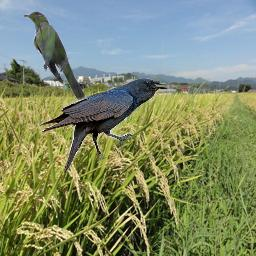Crow: (37, 78, 168, 174)
Cuckoo: (24, 11, 90, 104)
